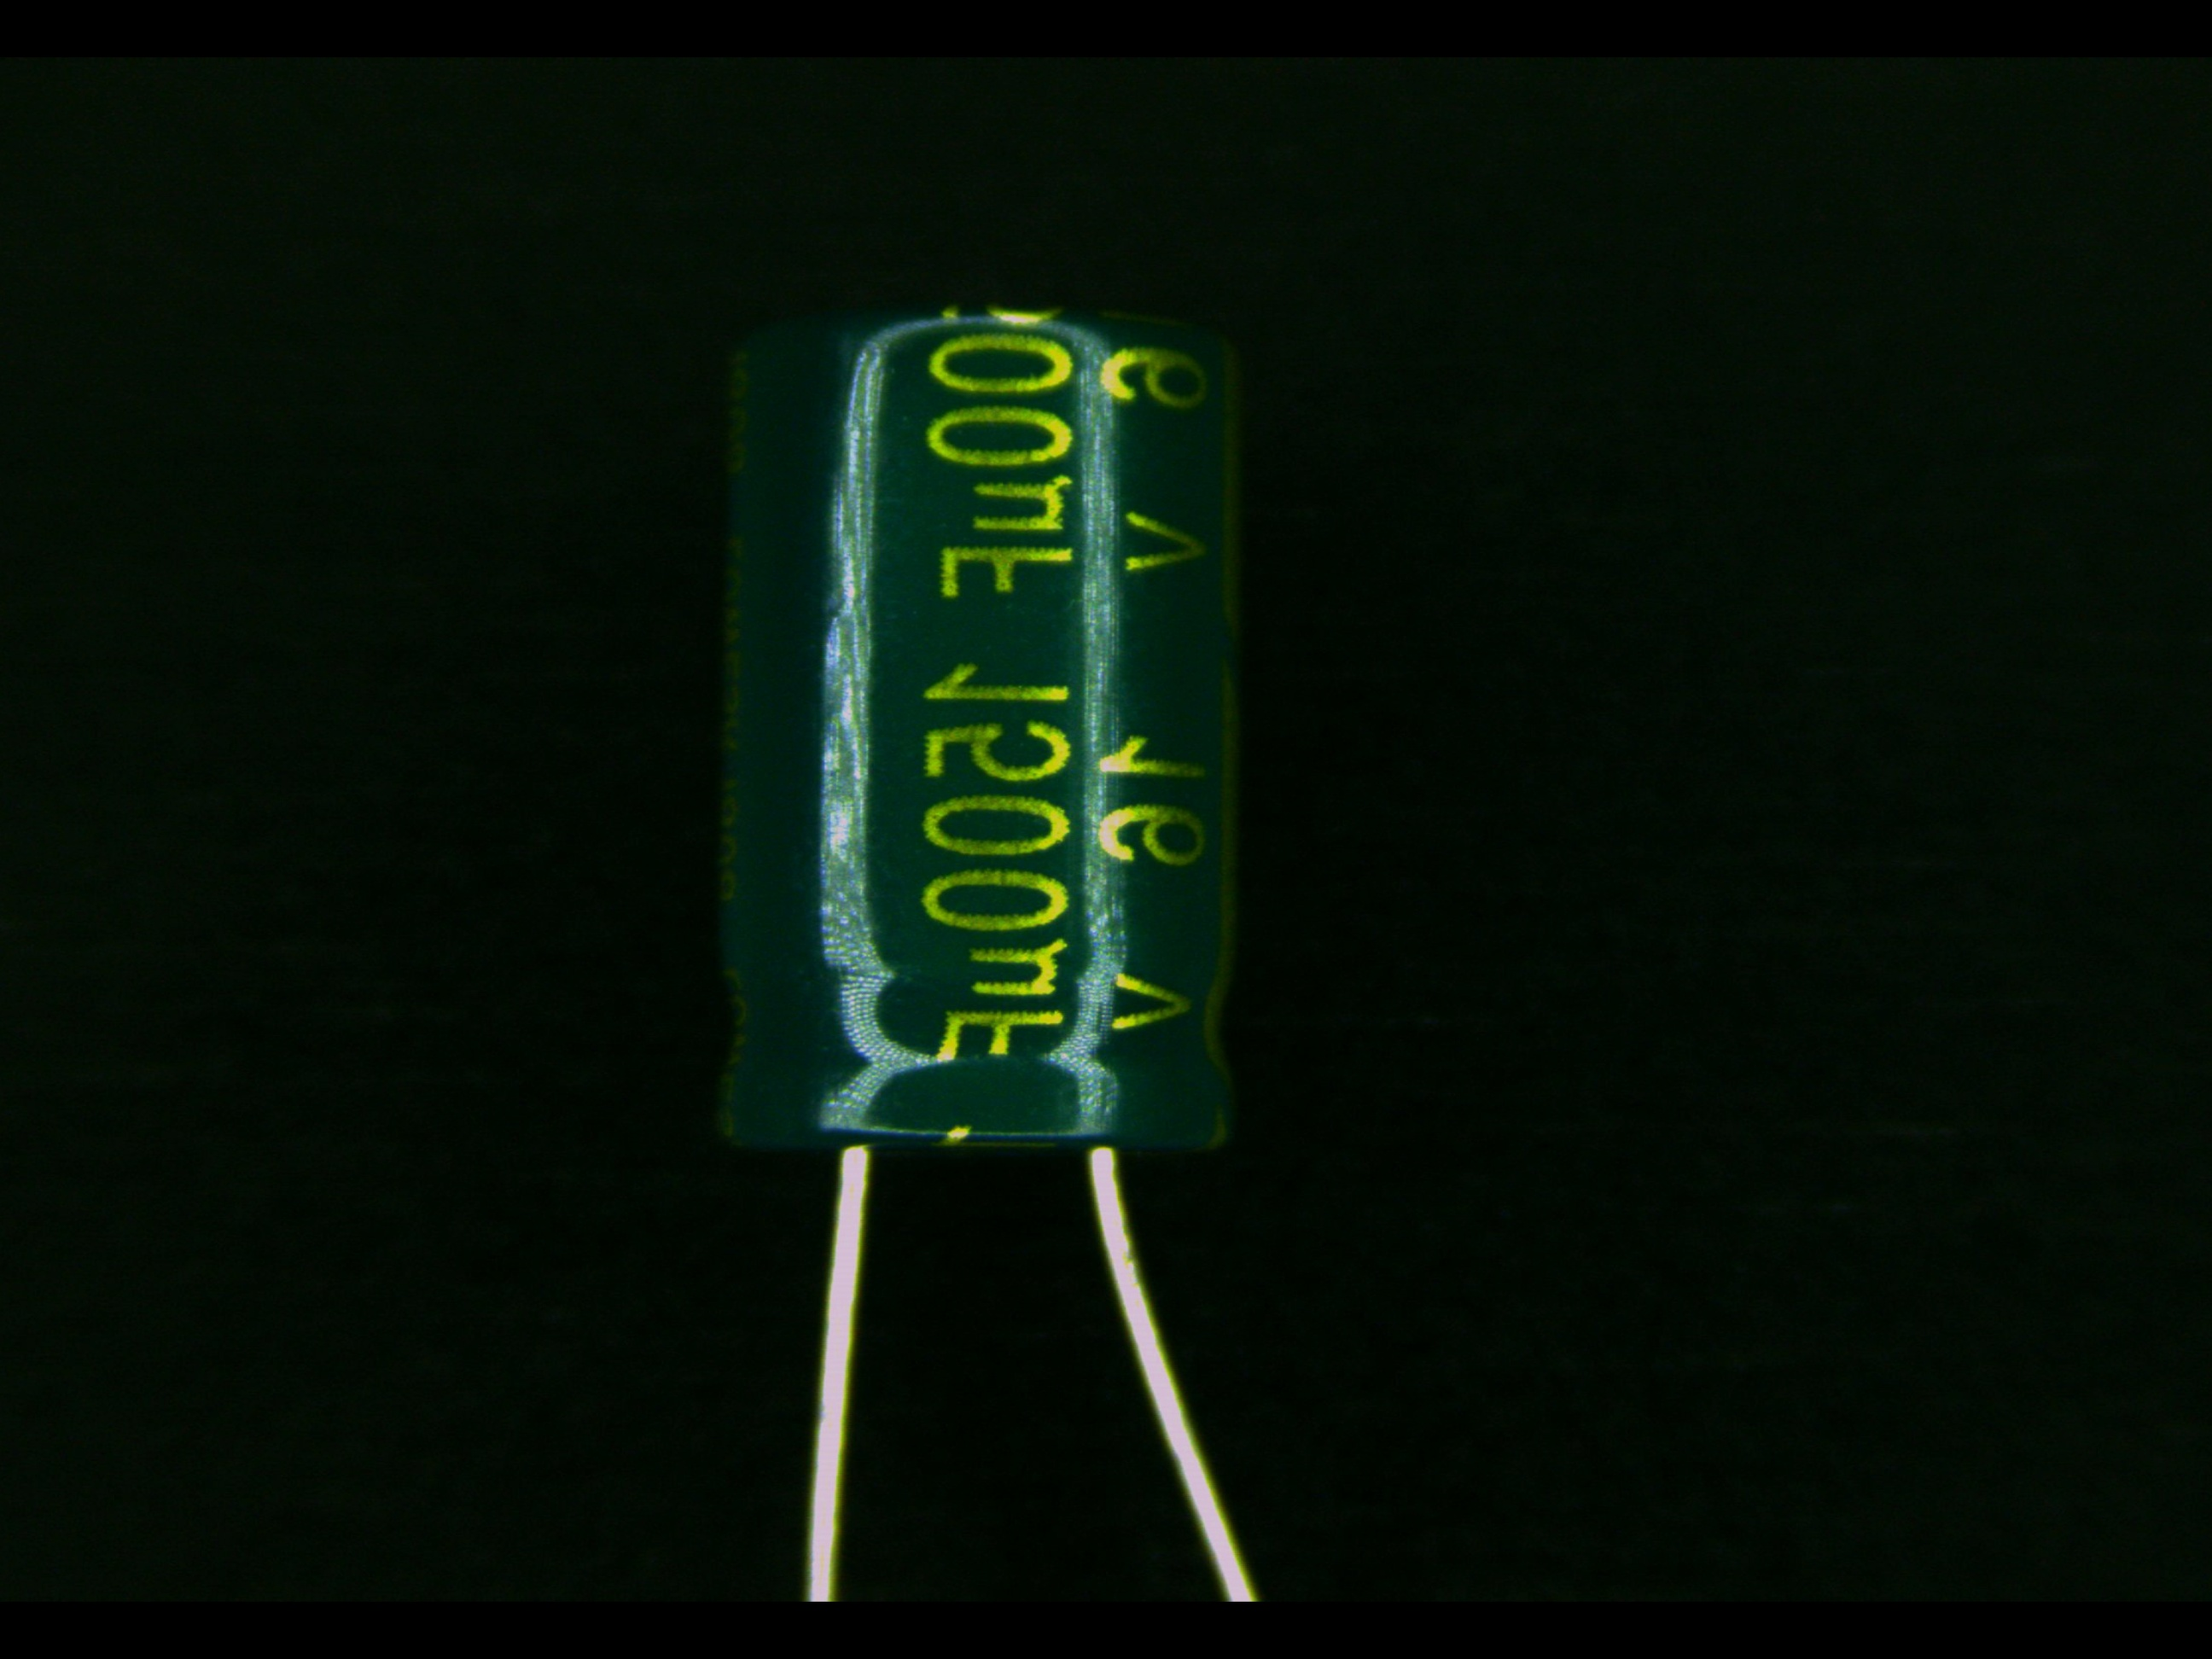c1: (702, 298, 1256, 1277)
